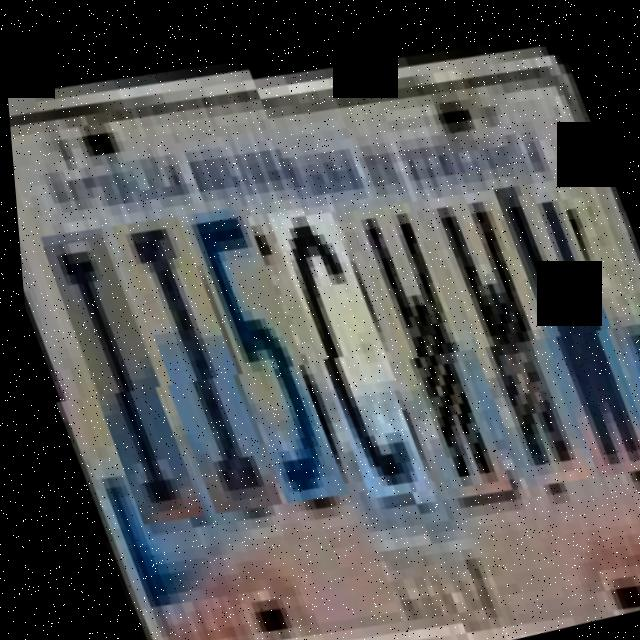5: (179, 202, 346, 514)
C: (263, 197, 431, 509)
I: (109, 213, 281, 527), (37, 227, 205, 539)
W: (416, 167, 587, 481), (339, 183, 507, 495), (486, 157, 640, 469)
